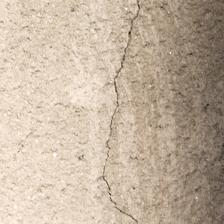Crack: (50, 1, 93, 221)
